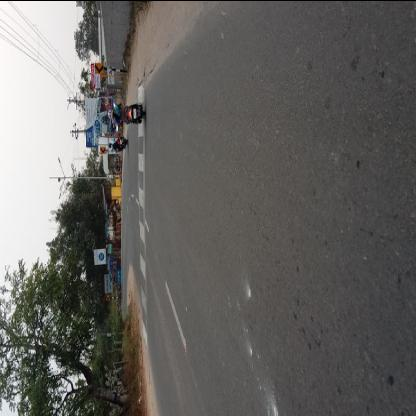speed-bumps: (127, 122, 155, 350)
